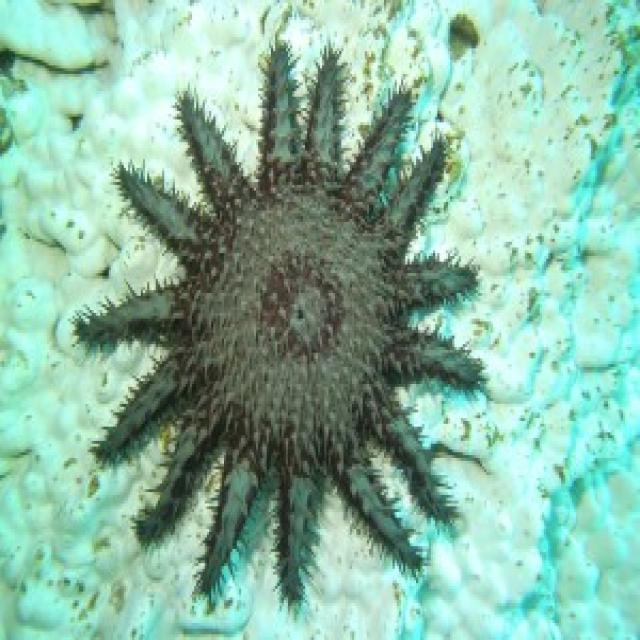Bleached: (408, 4, 639, 635), (1, 1, 172, 638)
Healthy: (78, 41, 483, 598)
